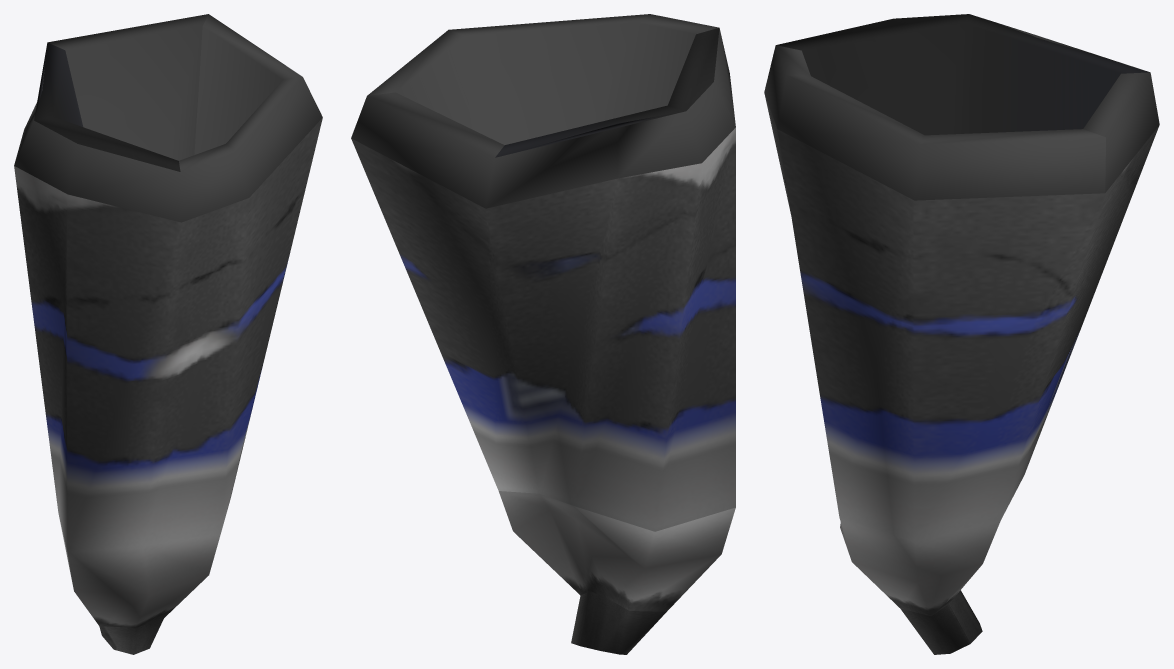
File: TLOG_BottleSuppressorBroken.fbx
3 renders of one model, left to right at view 1: azimuth 30°, elevation 25°; view 2: azimuth 150°, elevation 25°; view 3: azimuth 270°, elevation 25°, orthographic. The views are drawn at different scales.
Visible parts, largest first — view 1: EmptyWaterBottle; view 2: EmptyWaterBottle; view 3: EmptyWaterBottle.
Part boxes in pixels (bbox=[...]): EmptyWaterBottle: bbox=[14, 14, 322, 654]; EmptyWaterBottle: bbox=[351, 14, 735, 654]; EmptyWaterBottle: bbox=[764, 14, 1159, 654].
Size of the model in its own units: 0.067 by 0.1239 by 0.075.
